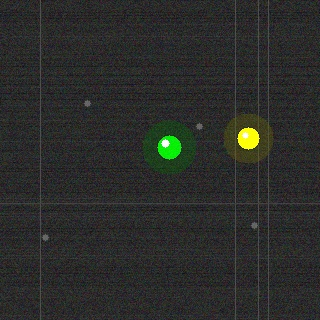green_normal: (155, 133, 183, 161)
yellow_warning: (235, 125, 261, 151)
